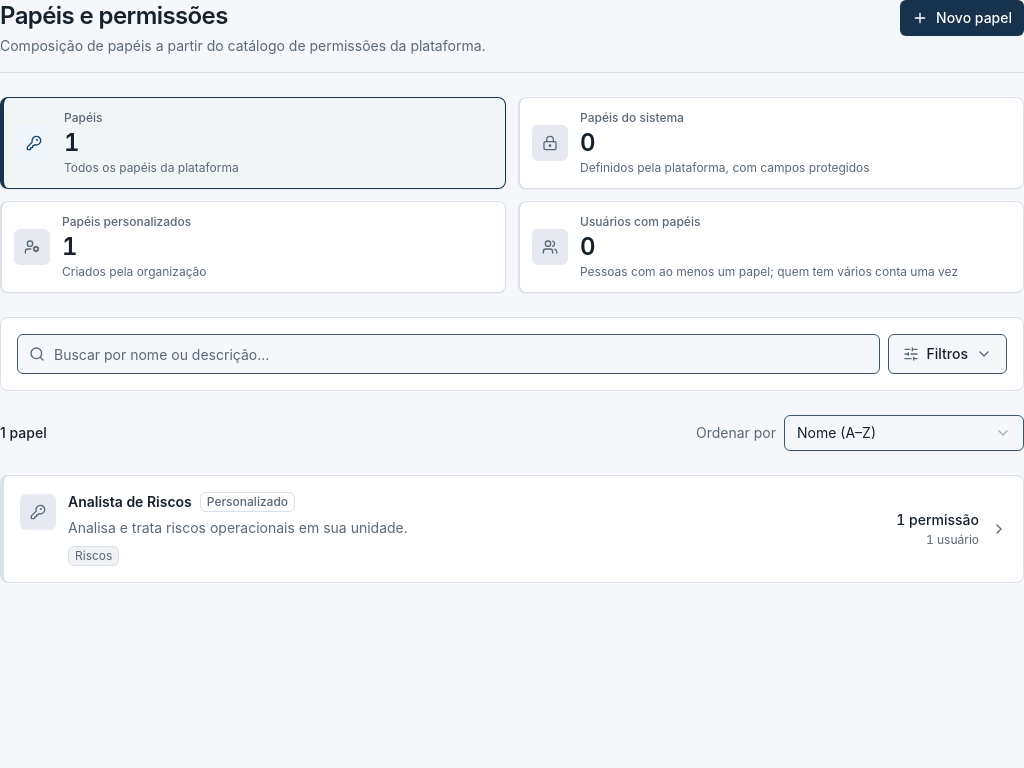
Scenario: RoleAdminView — Users tab and its permission boundary › lists the people holding the role with user:administer, in one request (FR-021/FR-024)
The width and height of the screenshot is (1024, 768).
Click the button named "Abrir detalhes do papel Analista de Riscos" at coordinates (178, 503), box [0,475,1023,583]
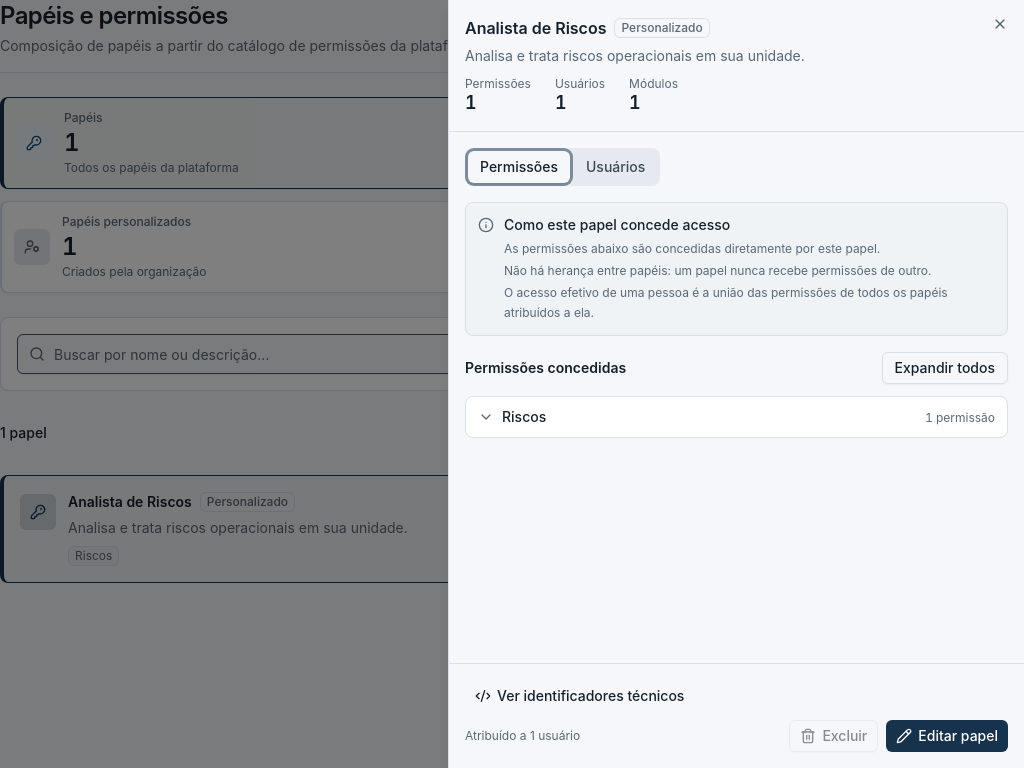
Press the mouse on the tab "Usuários" at coordinates (616, 166), box [574,150,657,182]
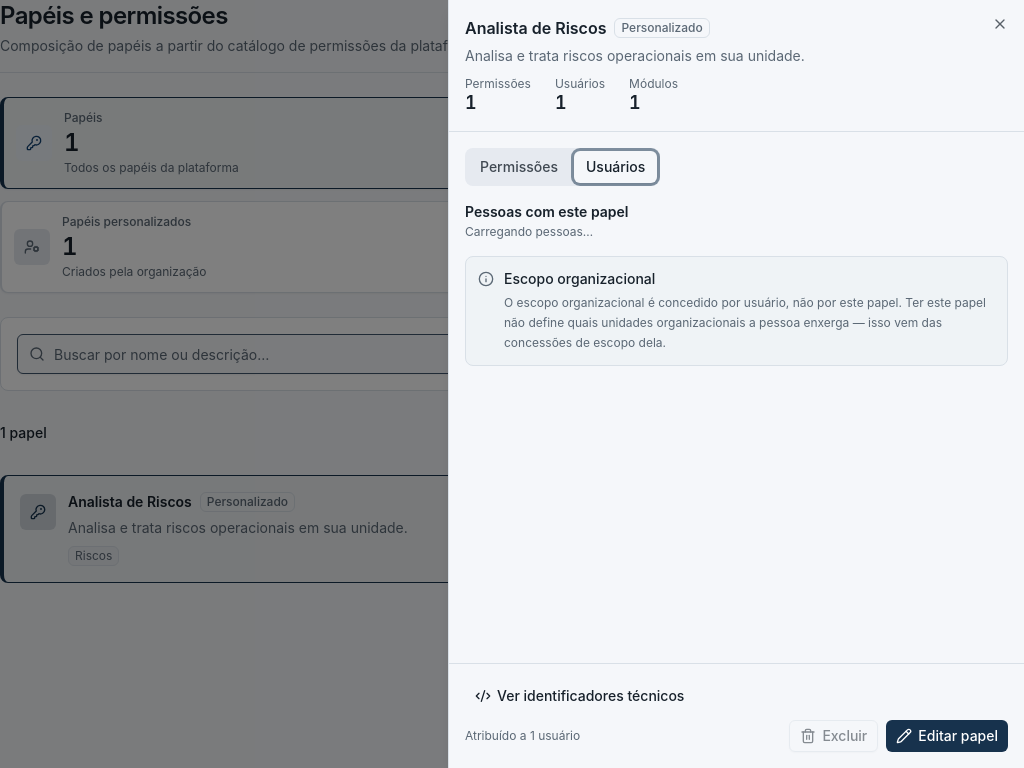
Click the tab "Usuários" at coordinates (616, 166), box [574,150,657,182]
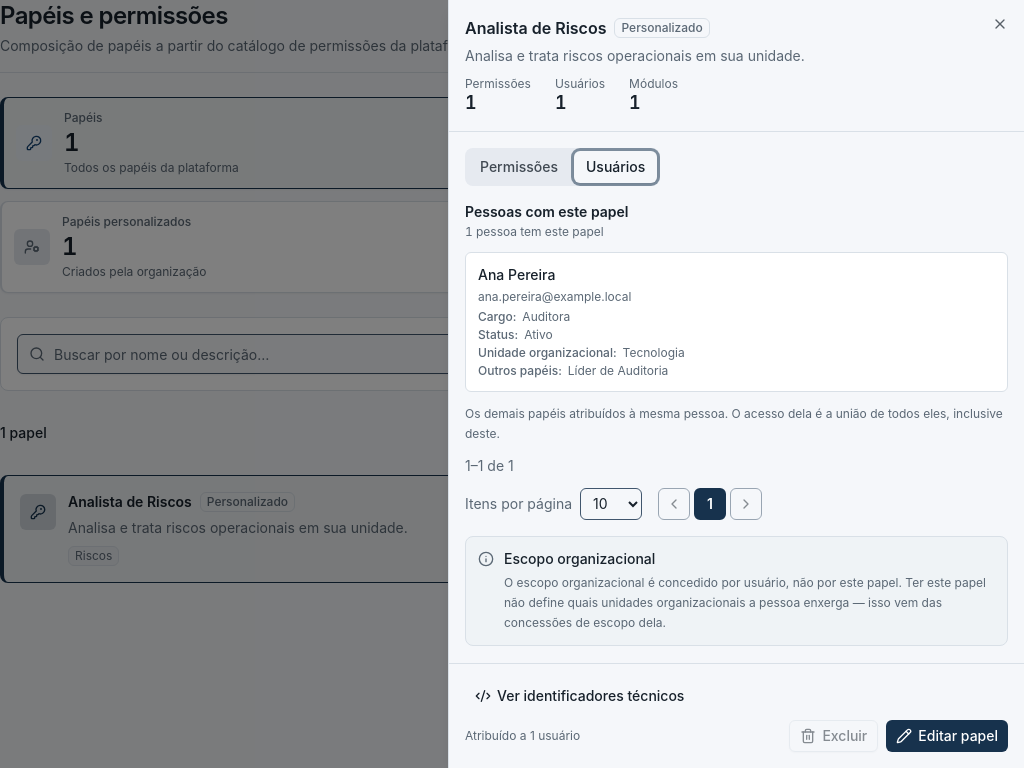
Now the text "Ana Pereira" is shown, box [478,266,555,282]
Now the text "ana.pereira@example.local" is shown, box [478,288,631,304]
Now the text "Líder de Auditoria" is shown, box [568,362,668,378]
